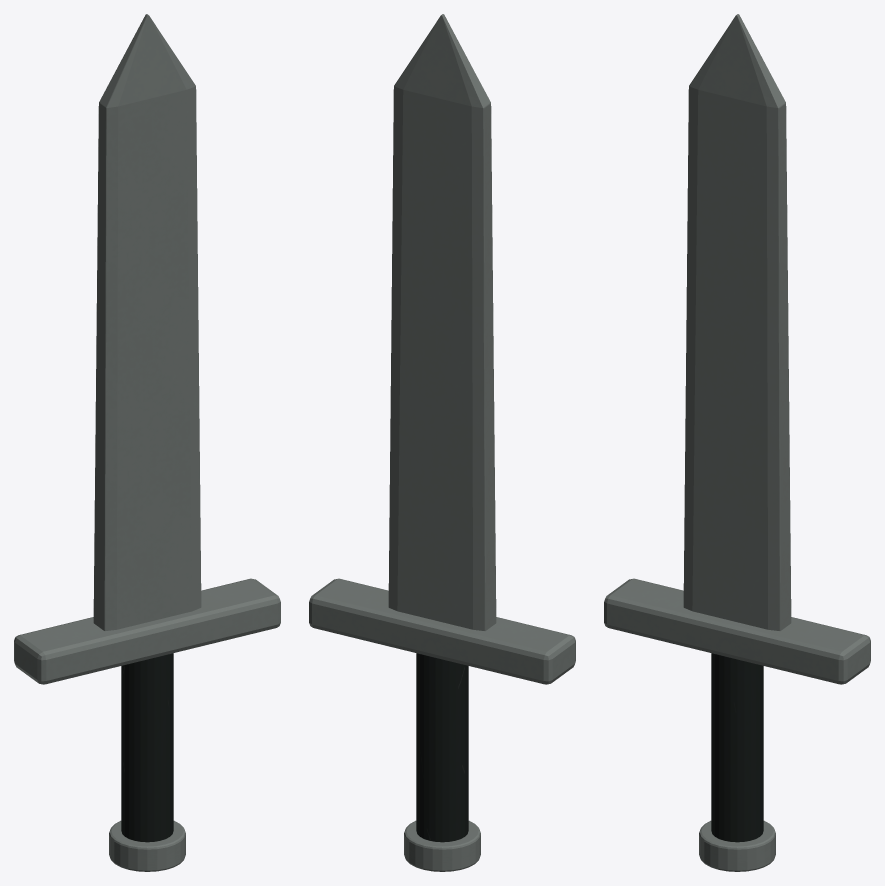
The model's file is greatsword-t1.glb.
3 renders of one model, left to right at view 1: azimuth 30°, elevation 25°; view 2: azimuth 150°, elevation 25°; view 3: azimuth 330°, elevation 25°, orthographic.
Parts seen in each view (by area): view 1: Forged blade, Crossguard, Wrapped handle, Weighted pommel; view 2: Forged blade, Crossguard, Wrapped handle, Weighted pommel; view 3: Forged blade, Crossguard, Wrapped handle, Weighted pommel.
Part boxes in pixels (bbox=[...]): Forged blade: bbox=[93, 14, 201, 630]; Crossguard: bbox=[14, 578, 280, 684]; Wrapped handle: bbox=[121, 653, 173, 842]; Weighted pommel: bbox=[109, 820, 185, 871]; Forged blade: bbox=[388, 14, 496, 630]; Crossguard: bbox=[309, 578, 575, 684]; Wrapped handle: bbox=[416, 653, 468, 842]; Weighted pommel: bbox=[404, 820, 480, 871]; Forged blade: bbox=[683, 14, 791, 630]; Crossguard: bbox=[604, 578, 870, 684]; Wrapped handle: bbox=[711, 653, 763, 842]; Weighted pommel: bbox=[699, 820, 775, 871].
Bounding box in the file's own units: 0.7 × 2.32 × 0.192.
Materials: 2 (2 with a texture image).
